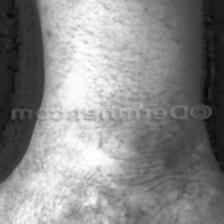Non-Cancerous Skin Condition: (86, 124, 200, 202)
